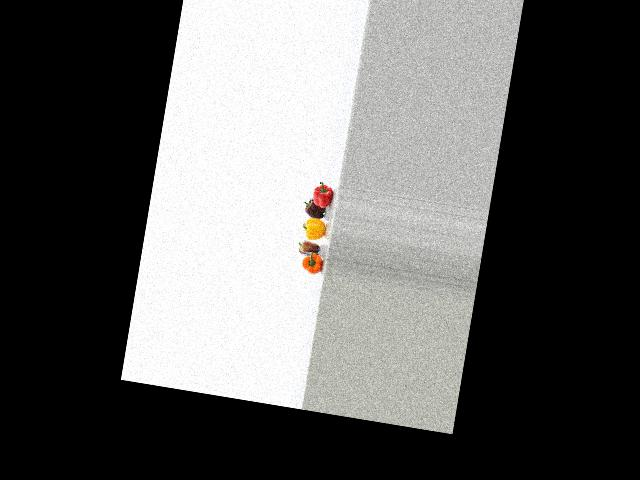bell_pepper: (293, 249, 326, 276)
